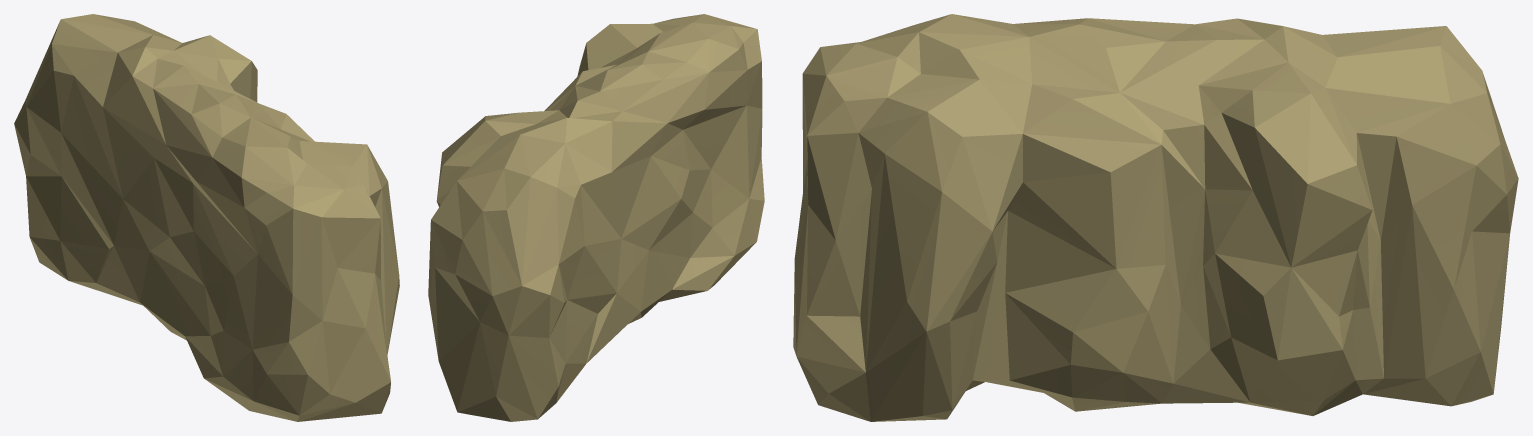
The model's file is SM_rock_64.fbx.
The picture shows the model from 3 angles, left to right: view 1: azimuth 30°, elevation 25°; view 2: azimuth 150°, elevation 25°; view 3: azimuth 270°, elevation 25°; orthographic projection. The views are drawn at different scales.
Visible parts, largest first — view 1: rock_64; view 2: rock_64; view 3: rock_64.
Part boxes in pixels (bbox=[...]): rock_64: bbox=[14, 14, 399, 421]; rock_64: bbox=[428, 14, 764, 421]; rock_64: bbox=[793, 14, 1518, 421].
Size of the model in its own units: 75.97 by 109 by 201.
